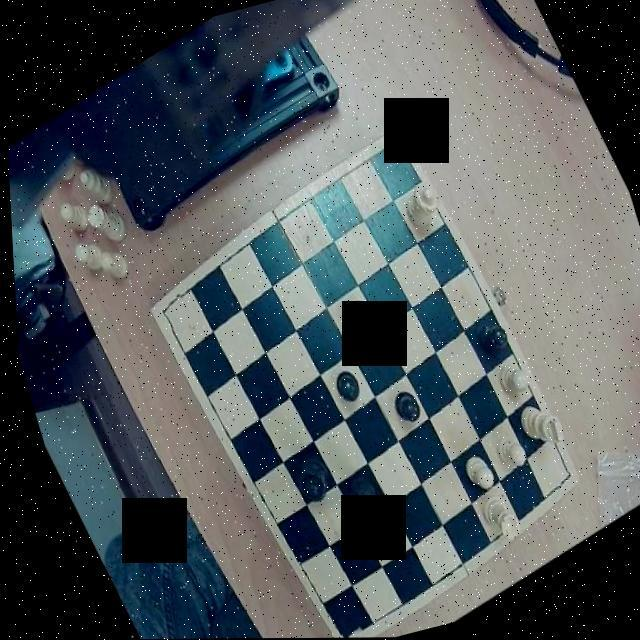chess-table-corners: (146, 290, 192, 335), (371, 130, 414, 172), (541, 458, 578, 496), (319, 612, 359, 638)
